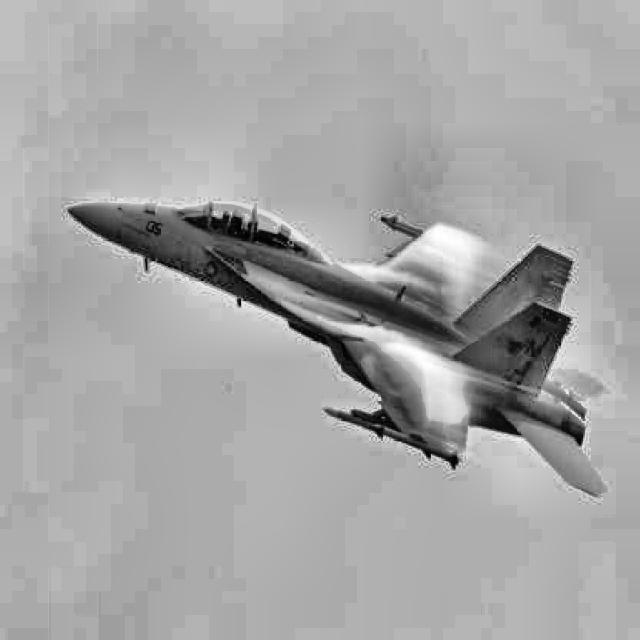F18: (67, 200, 611, 498)
